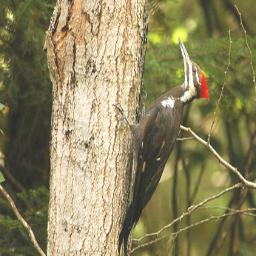Woodpecker: (109, 36, 211, 256)
